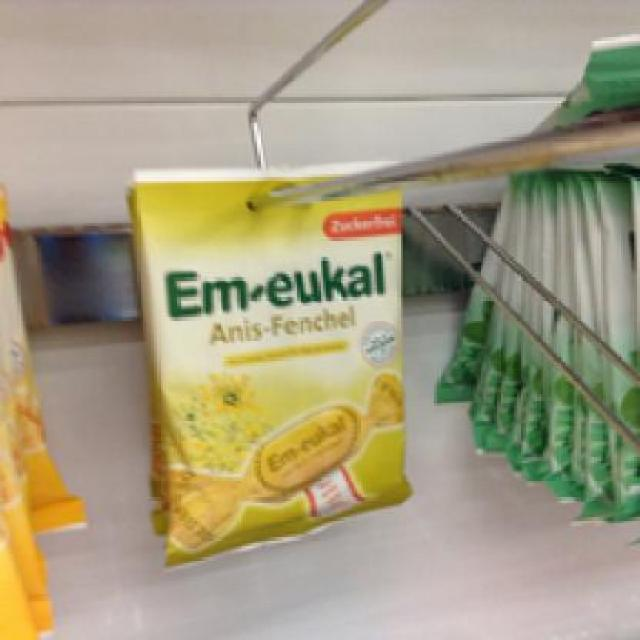Candy: (122, 163, 418, 563)
